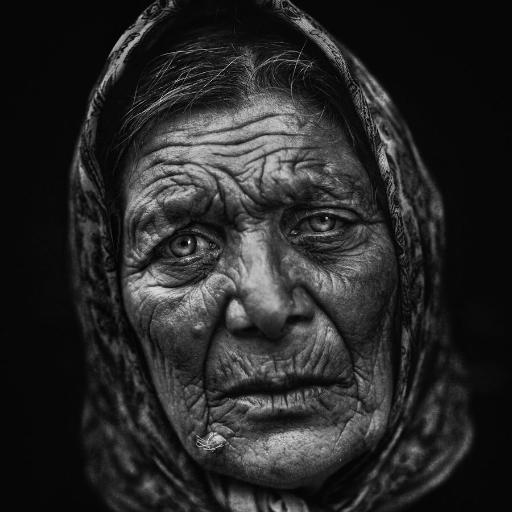left_eye: (290, 211, 358, 245)
left_lip_corner: (329, 370, 355, 398)
right_eye: (152, 228, 222, 262)
right_lip_corner: (221, 383, 249, 409)
